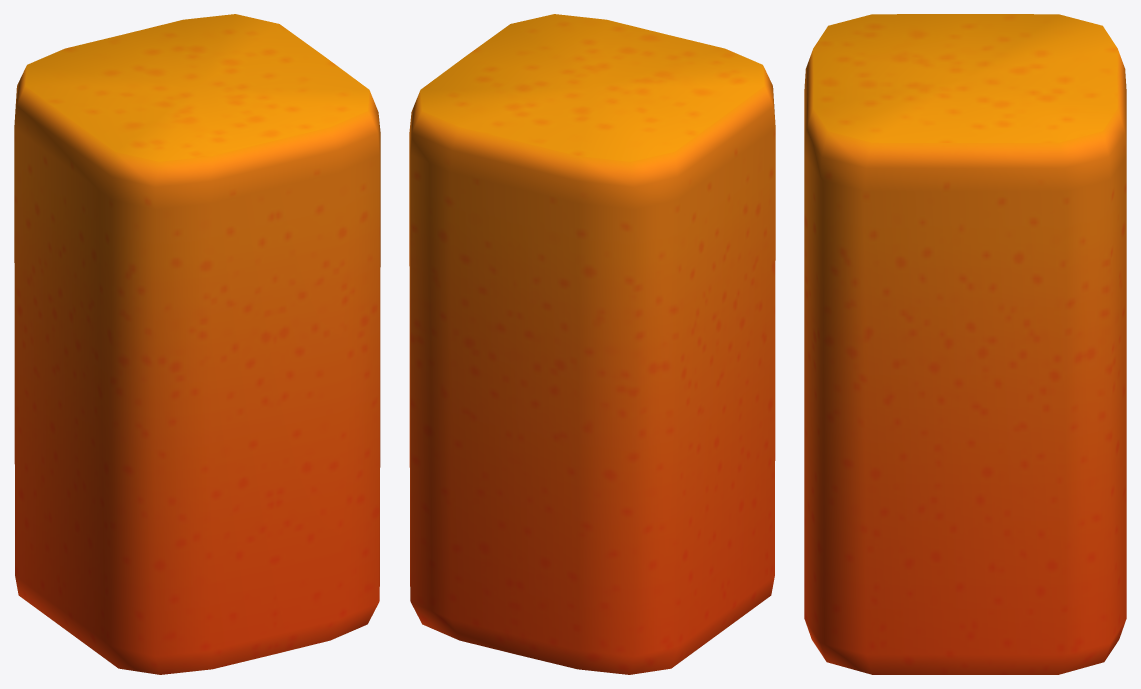
File: Juice_Bottle_Liquid003.FBX
3 renders of one model, left to right at view 1: azimuth 30°, elevation 25°; view 2: azimuth 150°, elevation 25°; view 3: azimuth 270°, elevation 25°, orthographic. The views are drawn at different scales.
Parts seen in each view (by area): view 1: Juice_Bottle_Liquid003; view 2: Juice_Bottle_Liquid003; view 3: Juice_Bottle_Liquid003.
Part boxes in pixels (x1=…): Juice_Bottle_Liquid003: x1=14, y1=14, x2=380, y2=674; Juice_Bottle_Liquid003: x1=409, y1=14, x2=775, y2=674; Juice_Bottle_Liquid003: x1=804, y1=14, x2=1126, y2=674.
Bounding box in the file's own units: 9.49 × 17.28 × 9.5.
